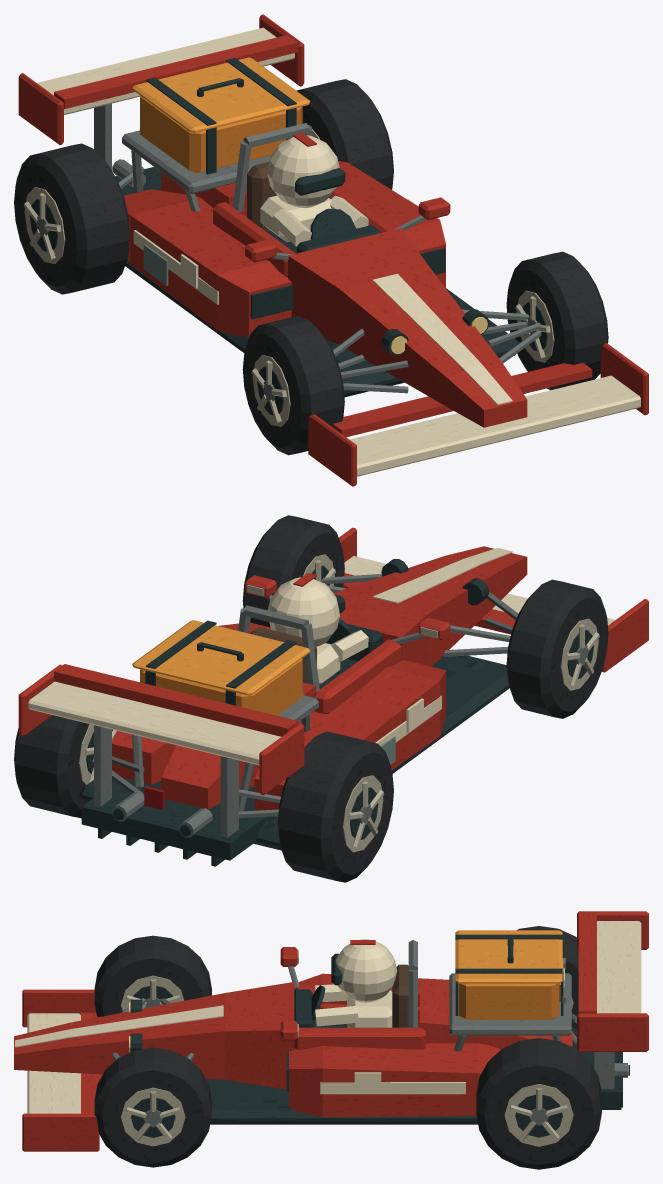
File: CoastalFormula.glb
The picture shows the model from 3 angles, top to bottom: view 1: azimuth 30°, elevation 25°; view 2: azimuth 150°, elevation 25°; view 3: azimuth 270°, elevation 25°; orthographic projection. The views are drawn at different scales.
Parts seen in each view (by area): view 1: body, aero, wheel_rear_right, delivery_bag, wheel_front_right, wheel_front_left, driver, wheel_rear_left, suspension, engine; view 2: body, aero, wheel_rear_right, wheel_front_right, delivery_bag, wheel_rear_left, wheel_front_left, driver, engine, suspension; view 3: body, aero, wheel_rear_left, wheel_front_left, delivery_bag, wheel_front_right, driver, engine, wheel_rear_right.
Part boxes in pixels (box(x1,y1,x2,y2)): body: box(122, 123, 527, 427); aero: box(18, 14, 648, 486); wheel_rear_right: box(14, 143, 129, 294); delivery_bag: box(132, 57, 310, 174); wheel_front_right: box(242, 316, 344, 455); wheel_front_left: box(506, 251, 608, 390); driver: box(260, 133, 368, 246); wheel_rear_left: box(296, 79, 393, 189); suspension: box(118, 166, 541, 393); engine: box(112, 159, 246, 217); body: box(80, 546, 527, 850); aero: box(18, 527, 648, 866); wheel_rear_right: box(277, 731, 393, 882); wheel_front_right: box(506, 579, 608, 718); delivery_bag: box(132, 620, 310, 715); wheel_rear_left: box(14, 715, 116, 818); wheel_front_left: box(242, 515, 344, 627); driver: box(268, 573, 368, 684); engine: box(112, 682, 315, 837); suspension: box(92, 574, 518, 817); body: box(14, 940, 575, 1124); aero: box(22, 911, 648, 1151); wheel_rear_left: box(476, 1038, 601, 1169); wheel_front_left: box(94, 1047, 211, 1167); delivery_bag: box(455, 930, 565, 1019); wheel_front_right: box(94, 935, 211, 1016); driver: box(311, 939, 397, 1027); engine: box(420, 986, 629, 1077); wheel_rear_right: box(517, 926, 578, 1029).
Size of the model in its own units: 1.96 by 1.07 by 3.78.
Materials: 1 (1 with a texture image).
